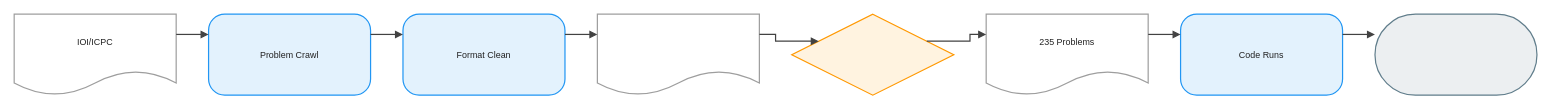
The diagram is 1552 pixels wide and 110 high, and some of its shapes have lost their labels. The shapes that lost their labels are listed below. From the top down, each one's centre as x and y in pixels, then its label:
point (678, 54): Test Cases
point (872, 54): Filter Tasks
point (1455, 54): Pass/Self
